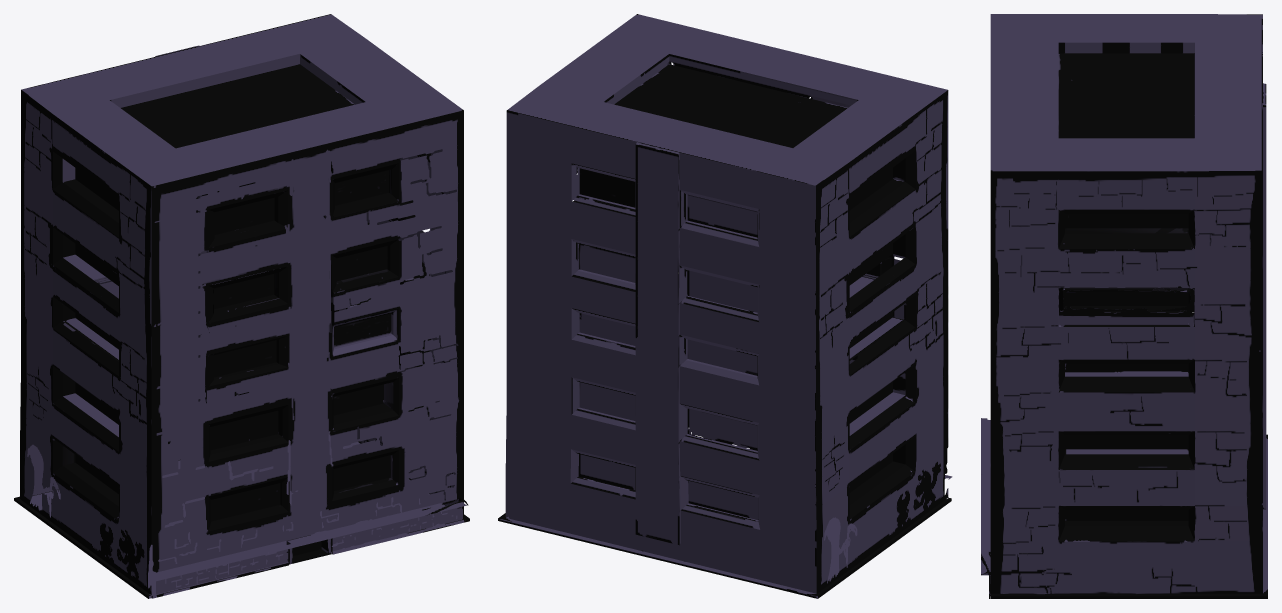
Rendered from buildincity.fbx.
The picture shows the model from 3 angles, left to right: view 1: azimuth 30°, elevation 25°; view 2: azimuth 150°, elevation 25°; view 3: azimuth 270°, elevation 25°; orthographic projection. The views are drawn at different scales.
Parts seen in each view (by area): view 1: Building.002; view 2: Building.002; view 3: Building.002.
Part boxes in pixels (bbox=[...]): Building.002: bbox=[14, 14, 469, 598]; Building.002: bbox=[498, 14, 952, 598]; Building.002: bbox=[981, 14, 1267, 598].
Size of the model in its own units: 2306 by 2827 by 1728.
